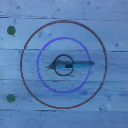Axe Tip: (46, 66, 59, 68)
